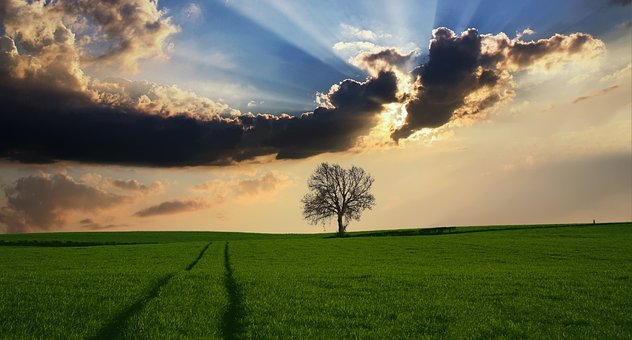field: (3, 234, 628, 340)
sky: (2, 1, 632, 226)
tree: (296, 159, 379, 235)
